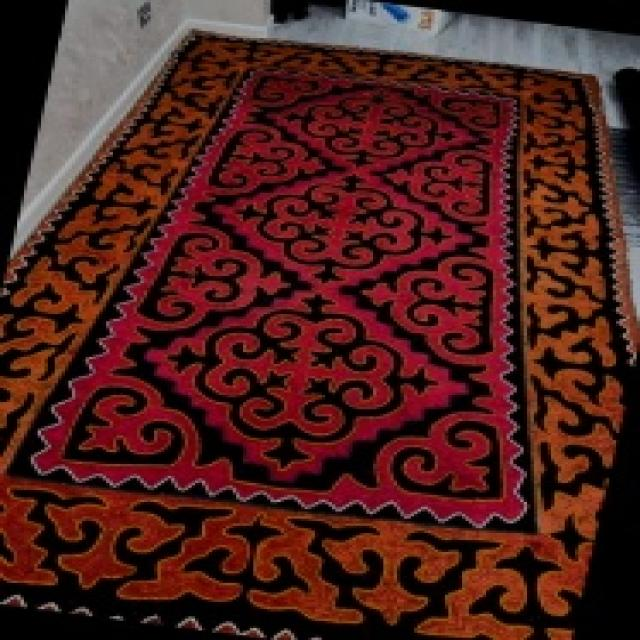Unity: (155, 287, 453, 476), (218, 172, 469, 290), (124, 207, 298, 351), (349, 240, 491, 382), (281, 89, 476, 172), (203, 115, 334, 203), (378, 139, 486, 240)
